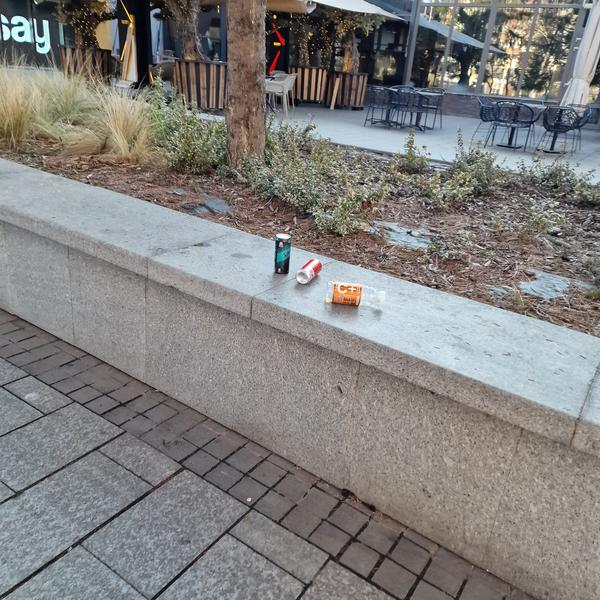can: (292, 255, 326, 289), (274, 232, 291, 275)
plastic_bottle: (326, 280, 386, 308)
